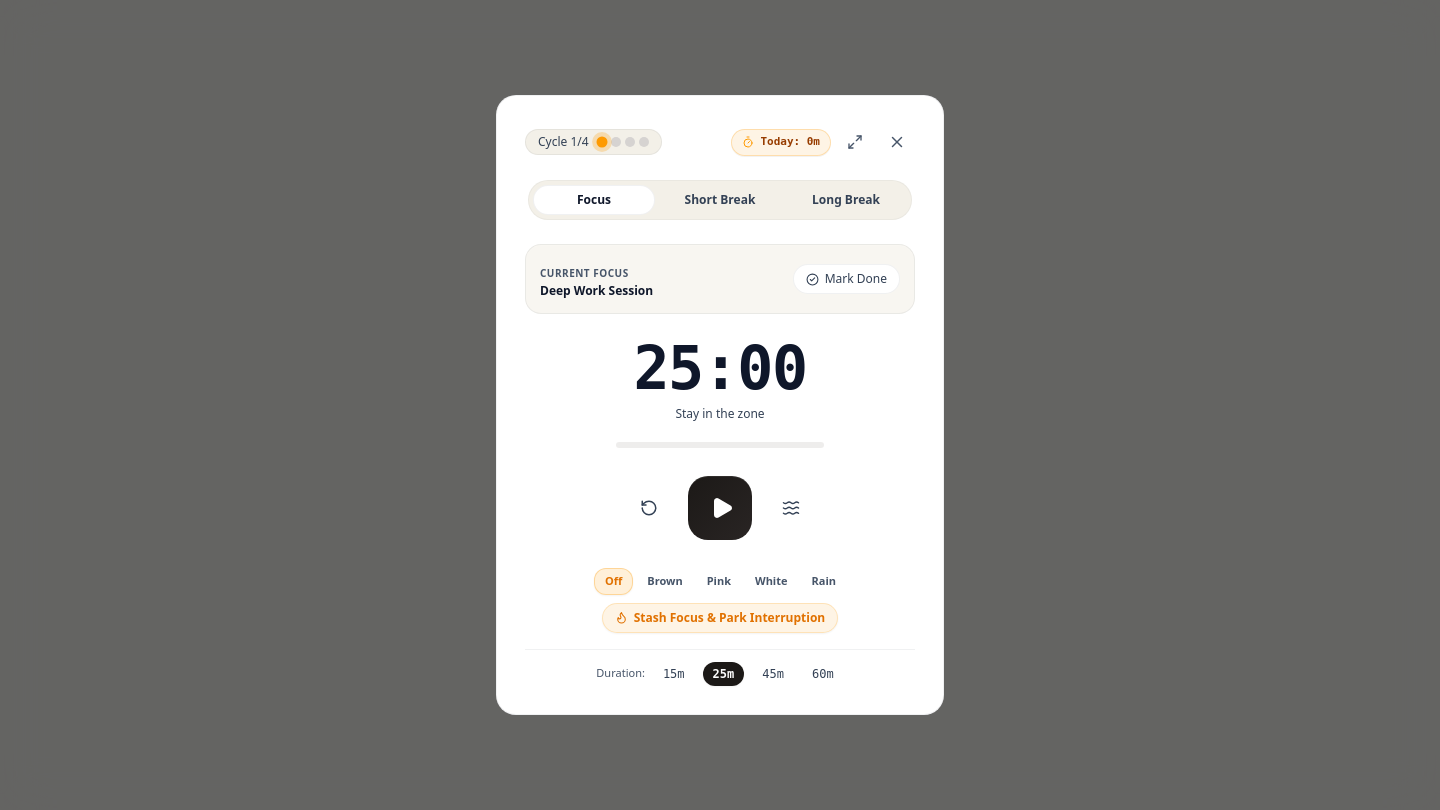
Test: PomodoroModal Component › exits Zen fullscreen mode back to standard modal when Exit Zen button is clicked
// Enter Zen
Click the button titled "zen fullscreen mode" at coordinates (855, 142), box 837,124 -> 873,160
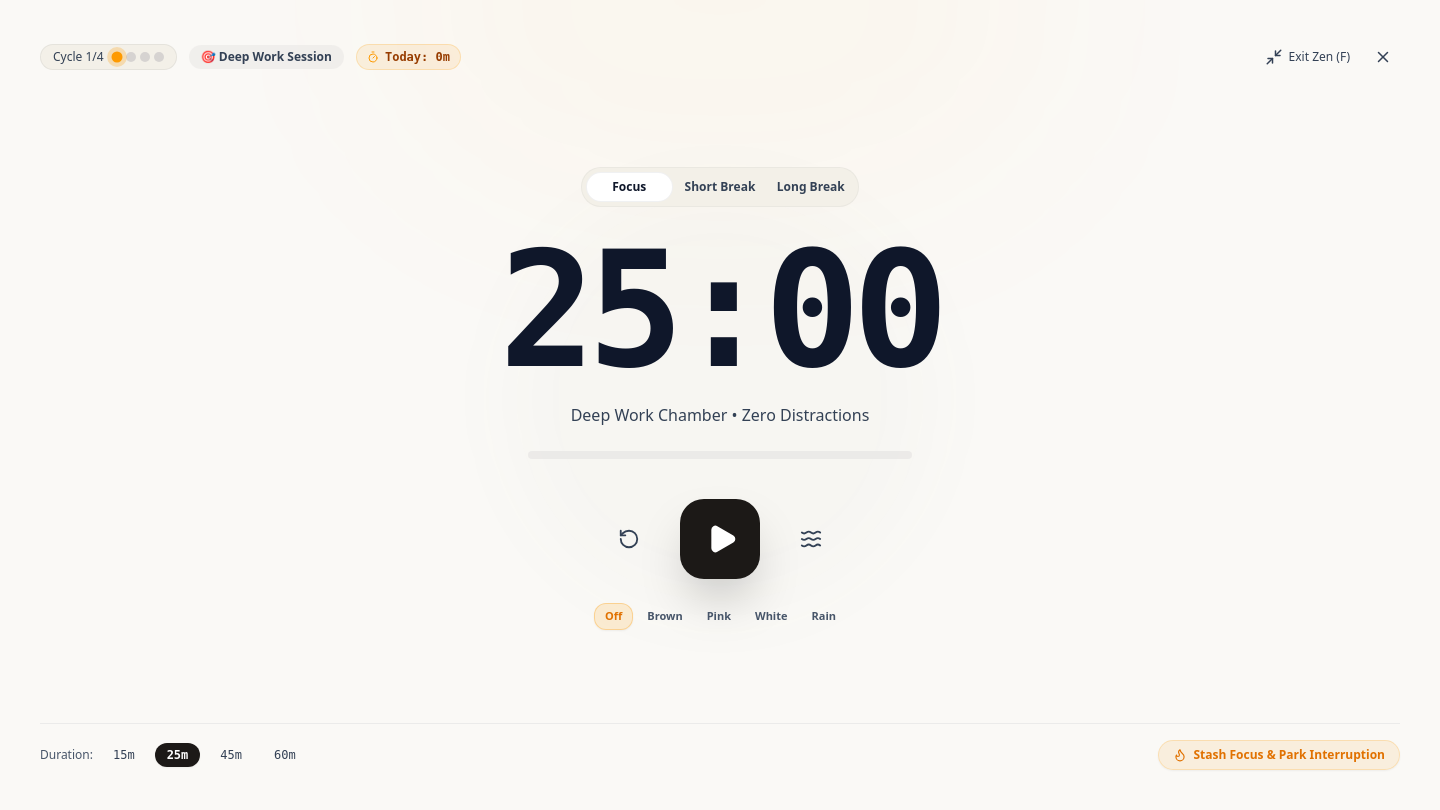
Expected: the dialog named "zen focus mode" is shown
// Exit Zen
Click the button titled "exit zen fullscreen" at coordinates (1307, 57), box 1257,40 -> 1358,74
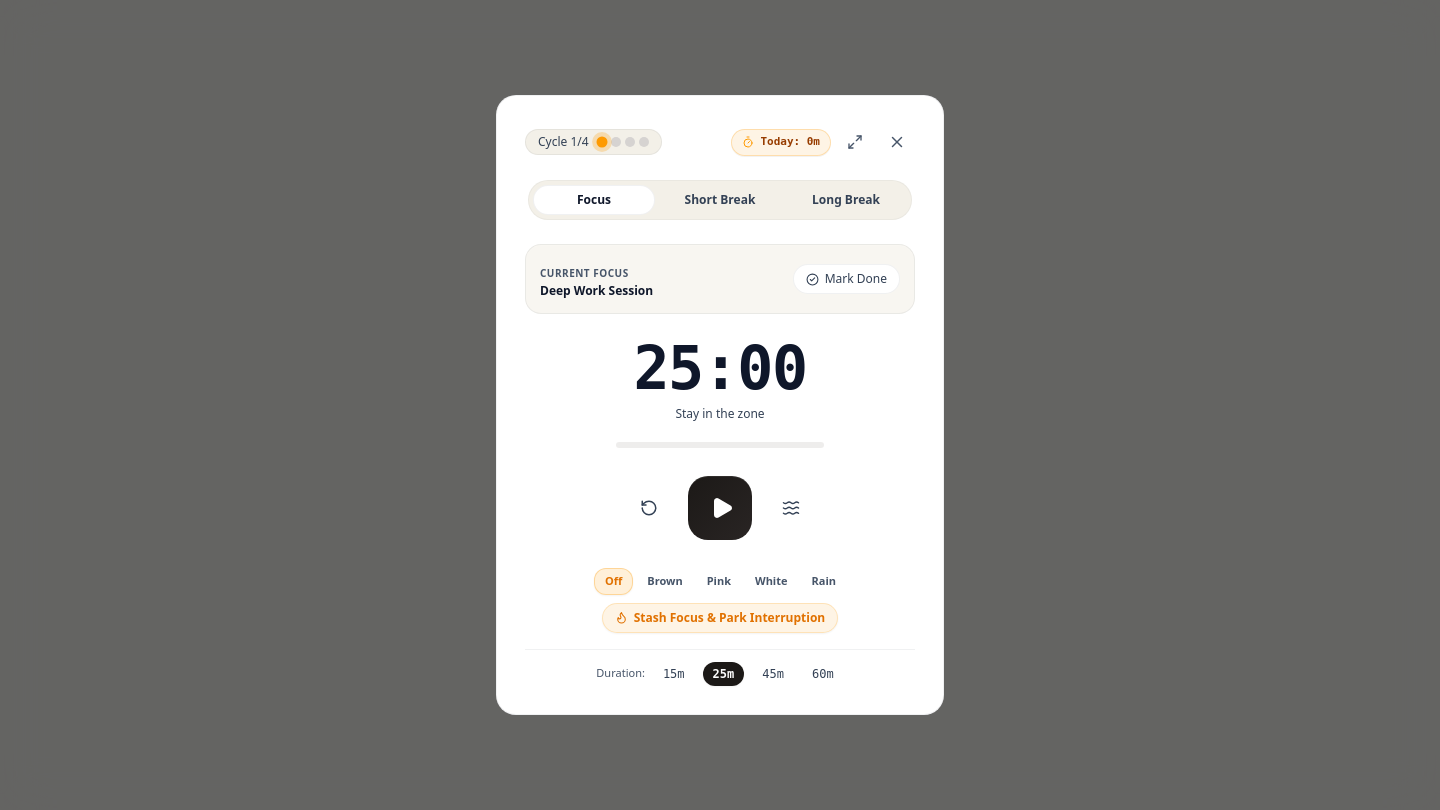
Expected: the dialog named "focus timer" is shown
